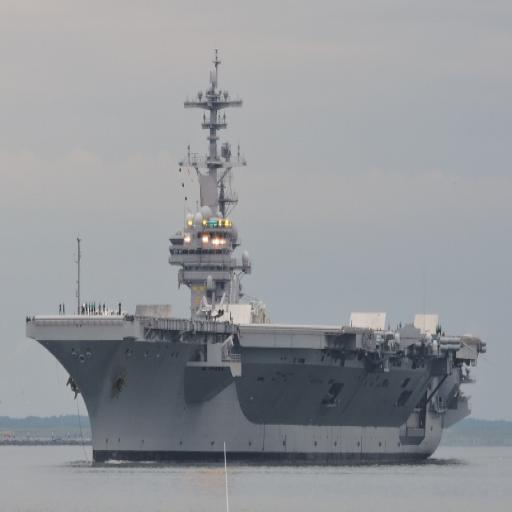Portanaves: (25, 43, 490, 471)
